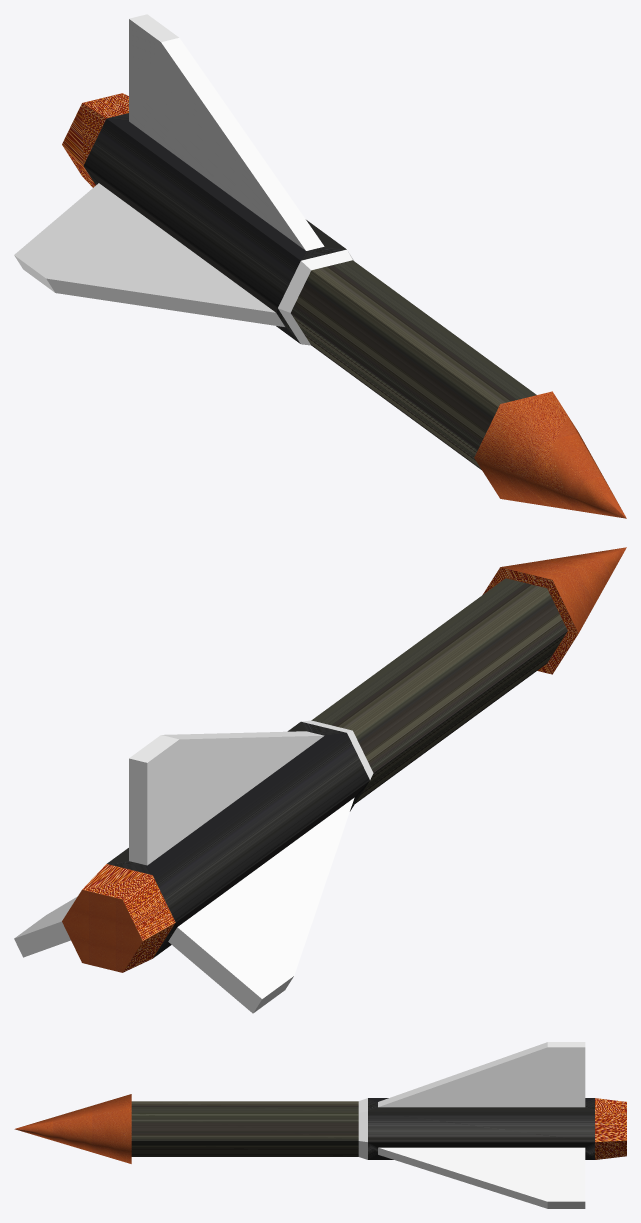
The model's file is missile.FBX.
3 views of the same model, one above another, from view 1: azimuth 30°, elevation 25°; view 2: azimuth 150°, elevation 25°; view 3: azimuth 270°, elevation 25° (orthographic). The views are drawn at different scales.
Parts seen in each view (by area): view 1: Cone001; view 2: Cone001; view 3: Cone001.
Boxes of the visible parts, x1=… form: Cone001: x1=14, y1=14, x2=626, y2=518; Cone001: x1=14, y1=547, x2=626, y2=1013; Cone001: x1=14, y1=1042, x2=626, y2=1208.
Size of the model in its own units: 6.5 by 5.63 by 23.78.
Materials: 4 (3 with a texture image).
